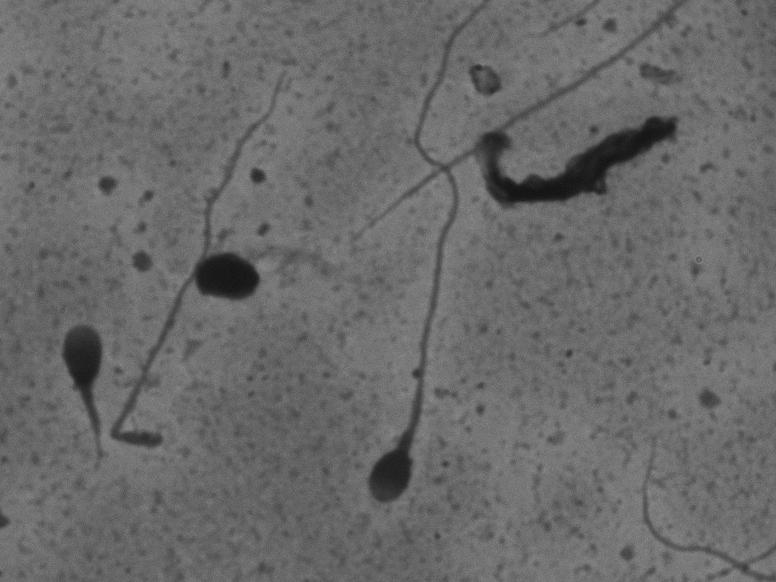Abnormal: (21, 309, 112, 477)
Normal: (355, 2, 479, 505)
